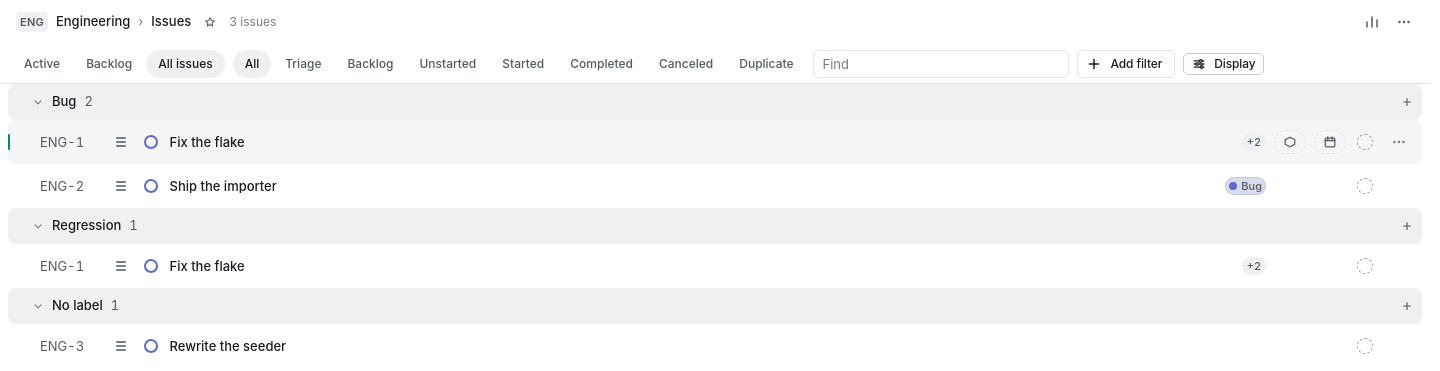
it: group headings › announce their count and fold the group away
Click the button "Bug 2": (38, 102) [28, 84, 1392, 120]
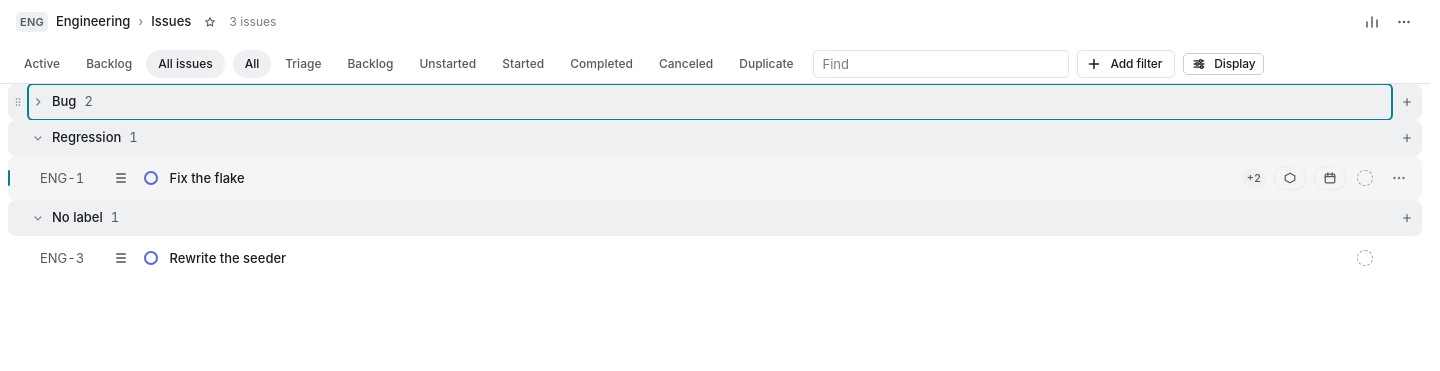
expect the text "Ship the importer" is gone: met
